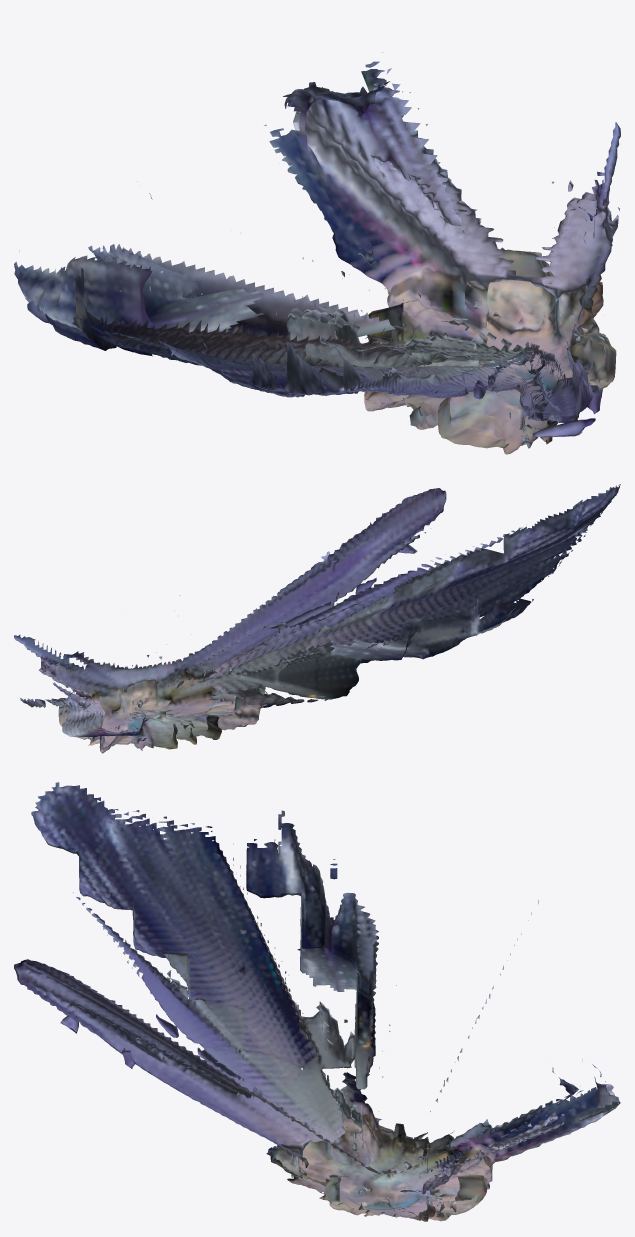
Rendered from moonlit-mermaid-patio-1-1_collider.glb.
3 views of the same model, one above another, from view 1: azimuth 30°, elevation 25°; view 2: azimuth 150°, elevation 25°; view 3: azimuth 270°, elevation 25° (orthographic). The views are drawn at different scales.
Parts seen in each view (by area): view 1: world; view 2: world; view 3: world.
Boxes of the visible parts, x1,y1,x2,y2 form: world: (14, 52, 620, 454); world: (14, 484, 620, 753); world: (14, 782, 620, 1221).
Size of the model in its own units: 52.04 by 25.77 by 57.71.
